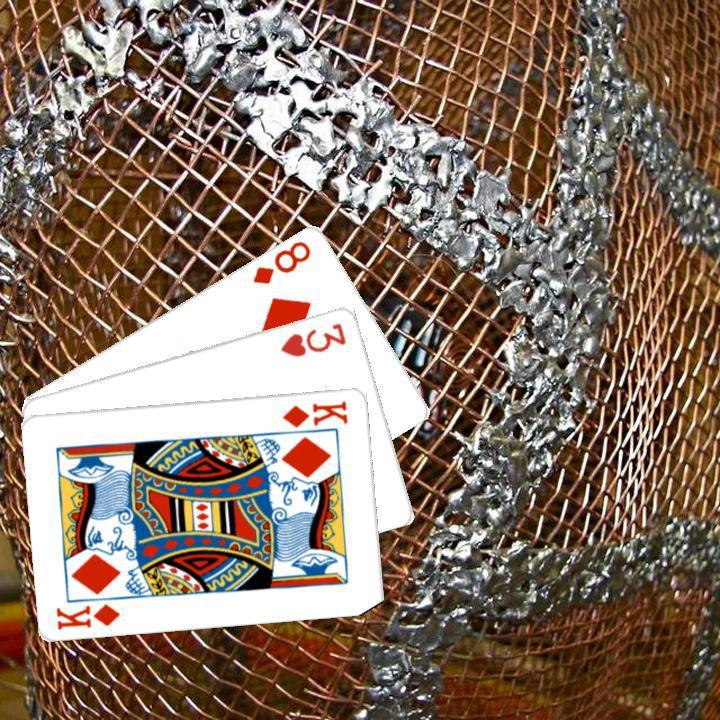3: (276, 318, 349, 359)
8: (248, 236, 313, 286)
K: (278, 396, 351, 429), (52, 599, 122, 631)
